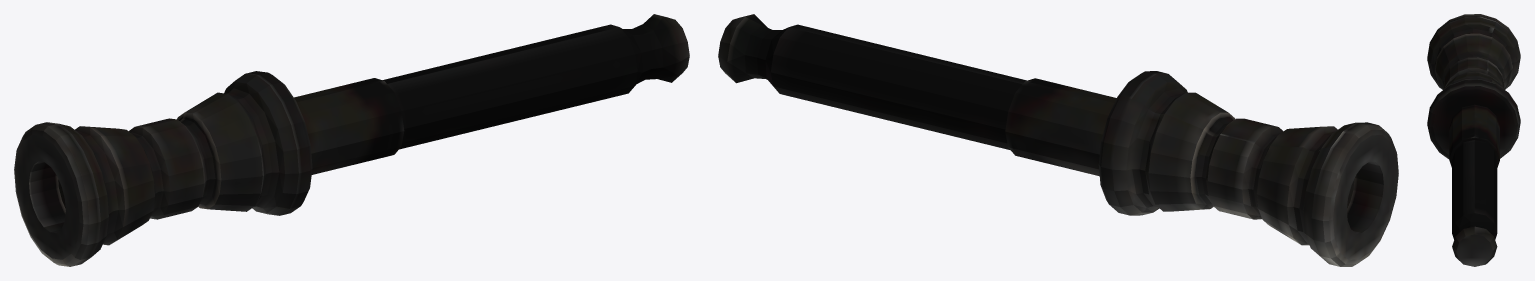
The picture shows the model from 3 angles, left to right: view 1: azimuth 30°, elevation 25°; view 2: azimuth 150°, elevation 25°; view 3: azimuth 270°, elevation 25°; orthographic projection. The views are drawn at different scales.
Visible parts, largest first — view 1: TW_625ec45bb14d7326ac20f572_PZ_Import; view 2: TW_625ec45bb14d7326ac20f572_PZ_Import; view 3: TW_625ec45bb14d7326ac20f572_PZ_Import.
Part boxes in pixels (x1=…): TW_625ec45bb14d7326ac20f572_PZ_Import: x1=14, y1=14, x2=689, y2=266; TW_625ec45bb14d7326ac20f572_PZ_Import: x1=718, y1=14, x2=1398, y2=266; TW_625ec45bb14d7326ac20f572_PZ_Import: x1=1427, y1=14, x2=1520, y2=266.
Bounding box in the file's own units: 0.0293 × 0.00591 × 0.00585.
Materials: 1 (1 with a texture image).
